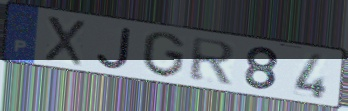4: (292, 51, 329, 100)
8: (242, 45, 280, 92)
G: (141, 30, 186, 80)
J: (95, 26, 134, 71)
R: (188, 36, 238, 86)
X: (42, 14, 87, 68)
